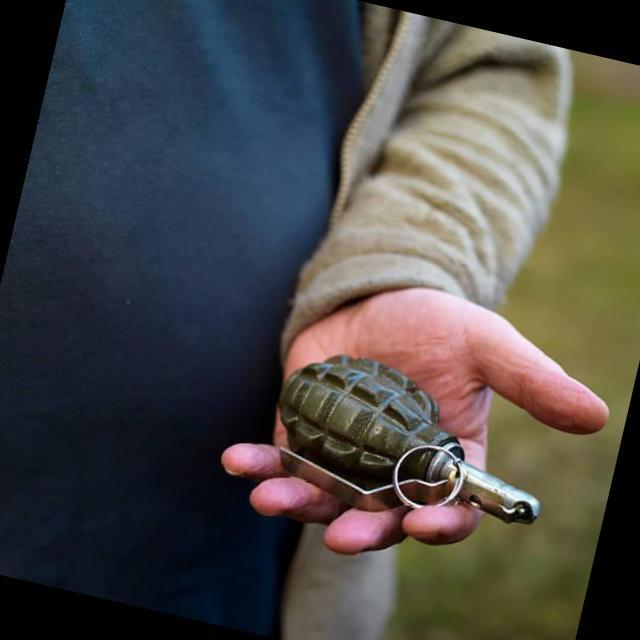grenade: (247, 339, 567, 532)
